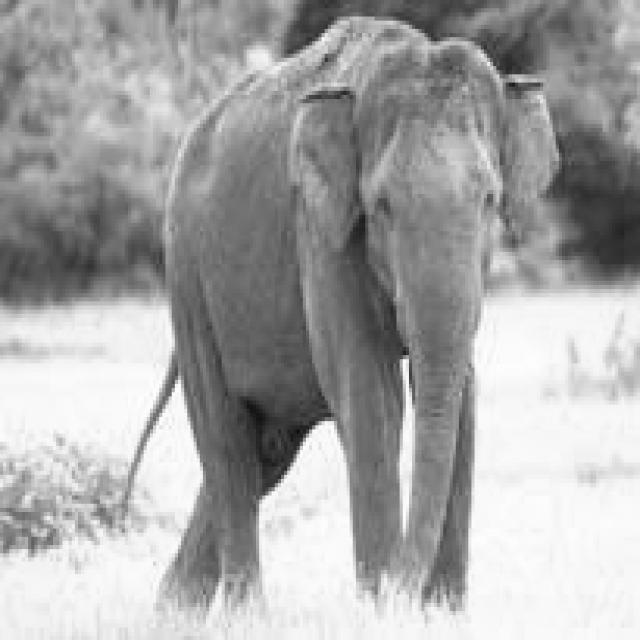Elephant: (115, 12, 559, 616)
